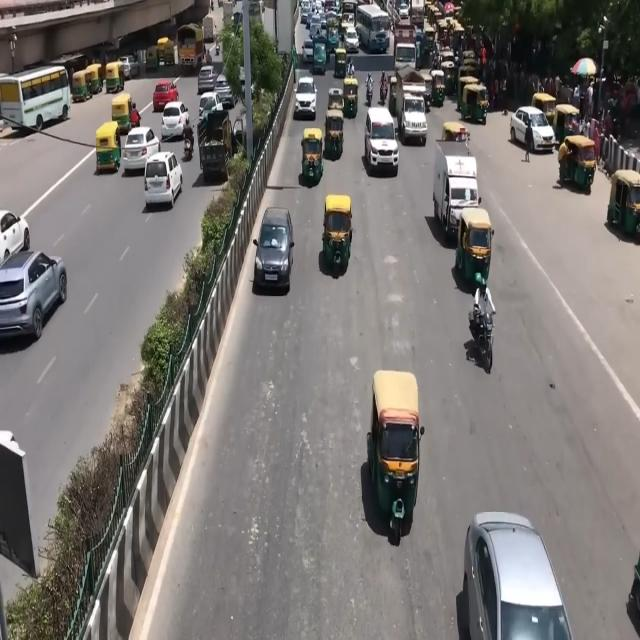auto: (369, 372, 423, 540), (456, 206, 494, 286), (321, 194, 353, 275), (557, 133, 597, 192), (606, 170, 640, 239), (96, 122, 122, 174), (460, 82, 490, 127), (300, 130, 323, 186), (552, 103, 580, 148), (324, 108, 345, 159), (532, 92, 558, 132), (111, 93, 134, 137), (416, 69, 436, 112), (342, 76, 360, 120), (72, 69, 92, 103), (429, 67, 446, 107), (106, 61, 124, 94), (85, 63, 103, 96), (440, 60, 456, 97), (156, 37, 174, 68), (388, 76, 400, 116), (334, 46, 347, 79)
bike-auto: (468, 291, 496, 371), (183, 122, 194, 159), (380, 71, 388, 104), (366, 72, 374, 99), (346, 58, 355, 77)
